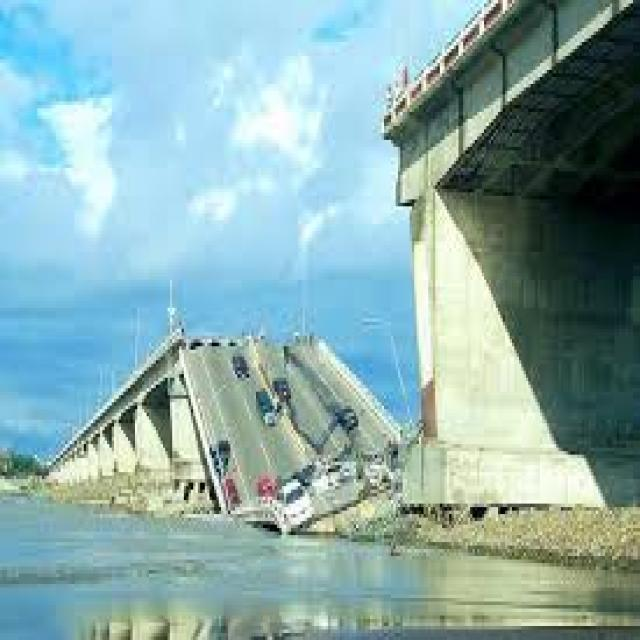bridge collapse: (120, 14, 588, 606)
